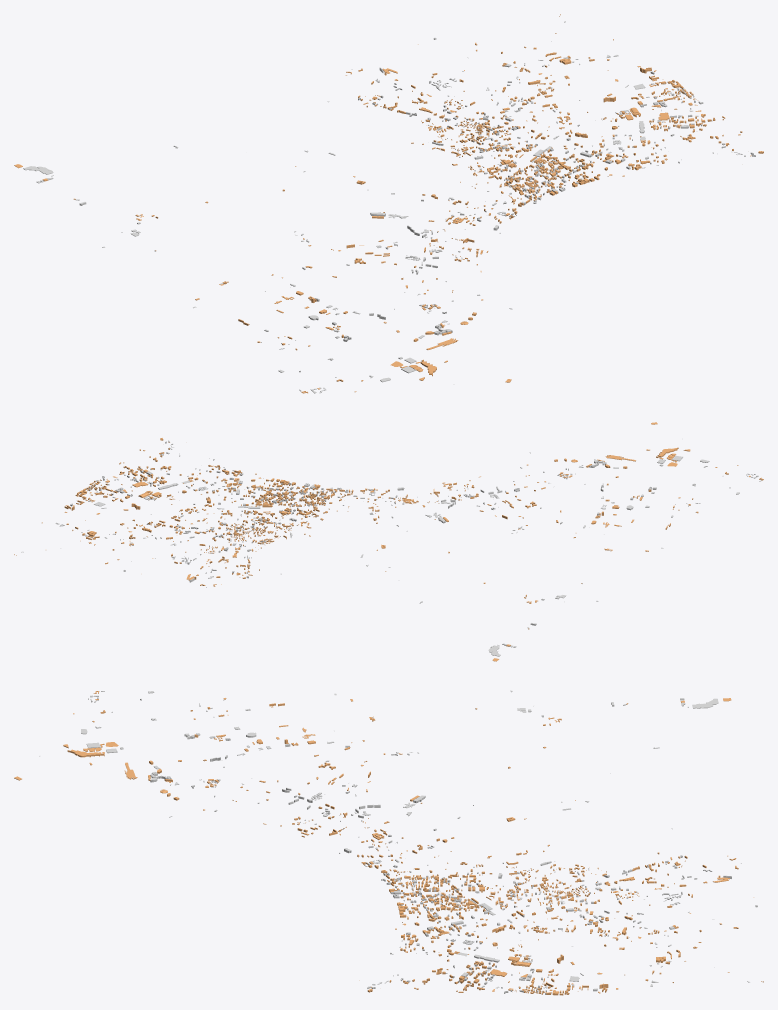
Rendered from nice_buildings_A2.glb.
3 views of the same model, one above another, from view 1: azimuth 30°, elevation 25°; view 2: azimuth 150°, elevation 25°; view 3: azimuth 270°, elevation 25° (orthographic). The views are drawn at different scales.
Size of the model in its own units: 8980 by 257 by 9326.
